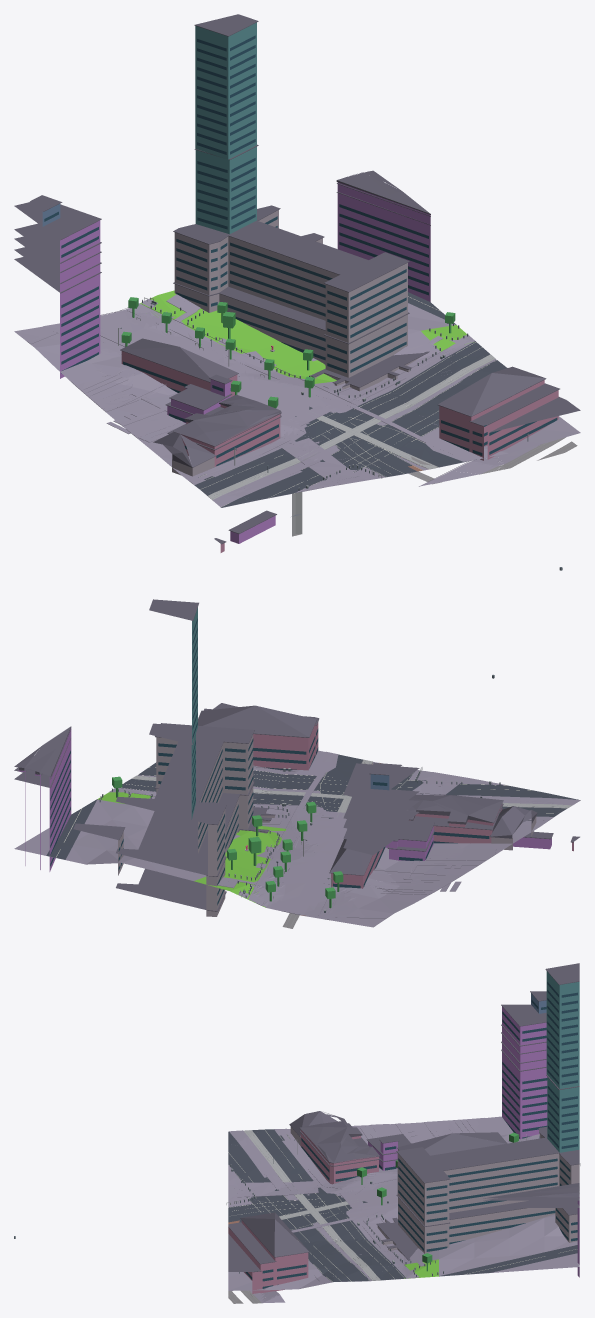
3 views of the same model, one above another, from view 1: azimuth 30°, elevation 25°; view 2: azimuth 150°, elevation 25°; view 3: azimuth 270°, elevation 25° (orthographic). The views are drawn at different scales.
Parts seen in each view (by area): view 1: compiled-chunk; view 2: compiled-chunk; view 3: compiled-chunk.
Part boxes in pixels (<box>): compiled-chunk: <box>14,14,580,570</box>; compiled-chunk: <box>14,599,580,928</box>; compiled-chunk: <box>14,963,580,1303</box>.
Bounding box in the file's own units: 120 × 106 × 194.
